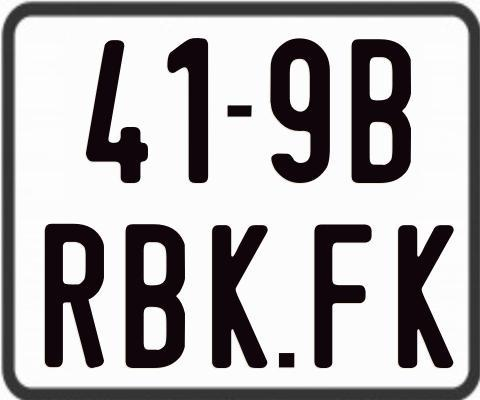1: (167, 36, 211, 187)
4: (85, 39, 152, 186)
9: (269, 36, 331, 181)
B: (350, 36, 413, 180), (123, 221, 182, 369)
F: (312, 222, 372, 372)
K: (212, 225, 269, 372), (396, 223, 453, 367)
R: (45, 224, 106, 371)
